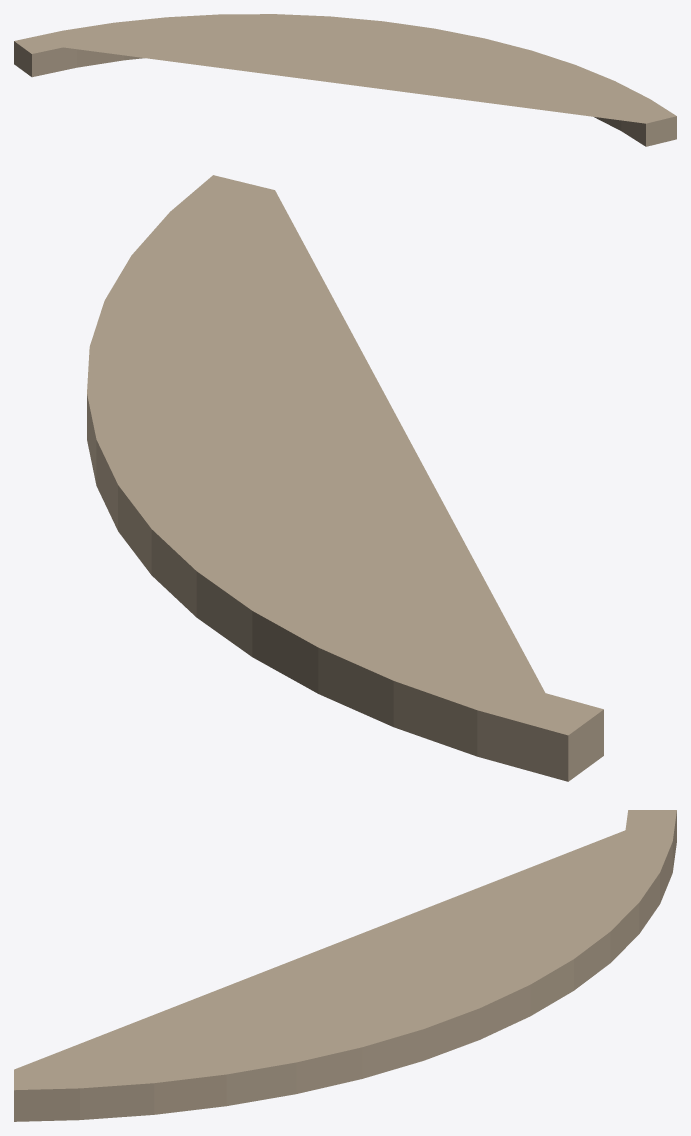
File: CurbTurn.fbx
The picture shows the model from 3 angles, top to bottom: view 1: azimuth 30°, elevation 25°; view 2: azimuth 150°, elevation 25°; view 3: azimuth 270°, elevation 25°; orthographic projection. The views are drawn at different scales.
Parts seen in each view (by area): view 1: curb turn; view 2: curb turn; view 3: curb turn.
Part boxes in pixels (bbox=[...]): curb turn: bbox=[14, 14, 676, 146]; curb turn: bbox=[87, 175, 603, 781]; curb turn: bbox=[14, 810, 676, 1121].
Size of the model in its own units: 1676 by 88.44 by 1676.
